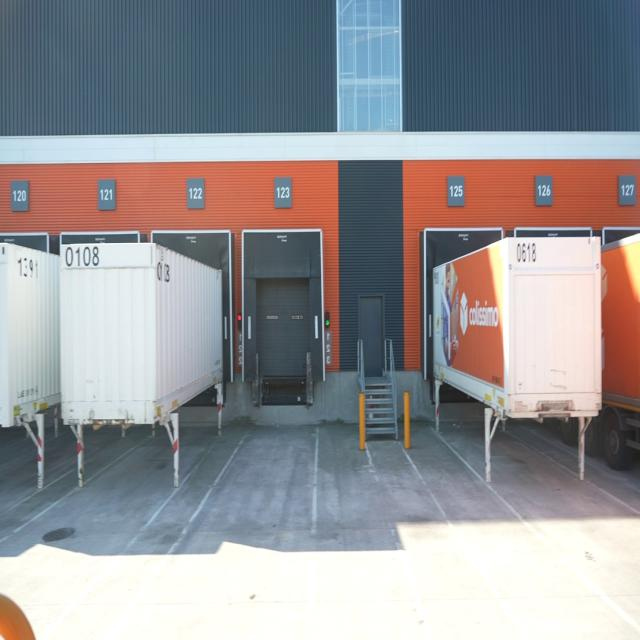Code: (64, 244, 102, 270), (513, 239, 540, 267)
